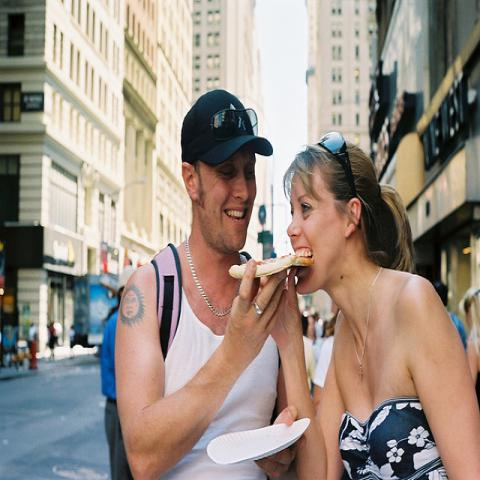truck: (70, 274, 122, 348)
